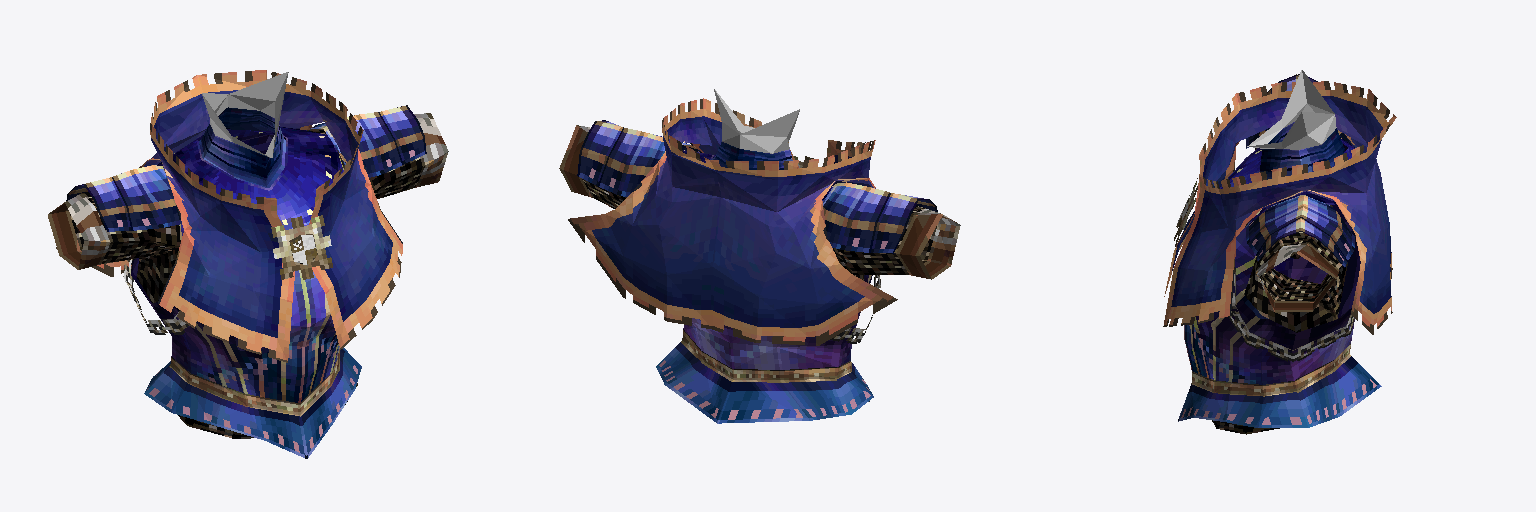
3 views of the same model, side by side, from view 1: azimuth 30°, elevation 25°; view 2: azimuth 150°, elevation 25°; view 3: azimuth 270°, elevation 25° (orthographic).
Parts seen in each view (by area): view 1: mesh00; view 2: mesh00; view 3: mesh00.
Boxes of the visible parts, x1,y1,x2,y2 form: mesh00: [48, 70, 448, 458]; mesh00: [559, 89, 960, 423]; mesh00: [1163, 70, 1396, 434].
Bounding box in the file's own units: 63.38 × 54.78 × 34.92.
2 materials, 1 textured.